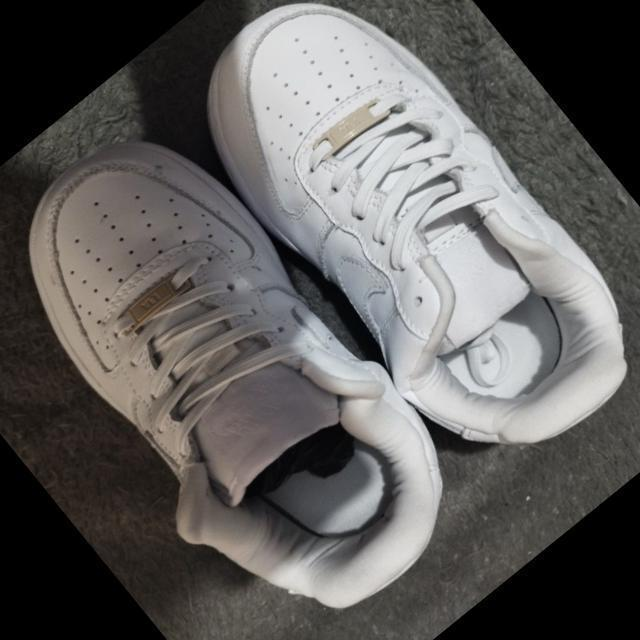nike_fake_airforce: (0, 84, 499, 640), (159, 0, 640, 498)
